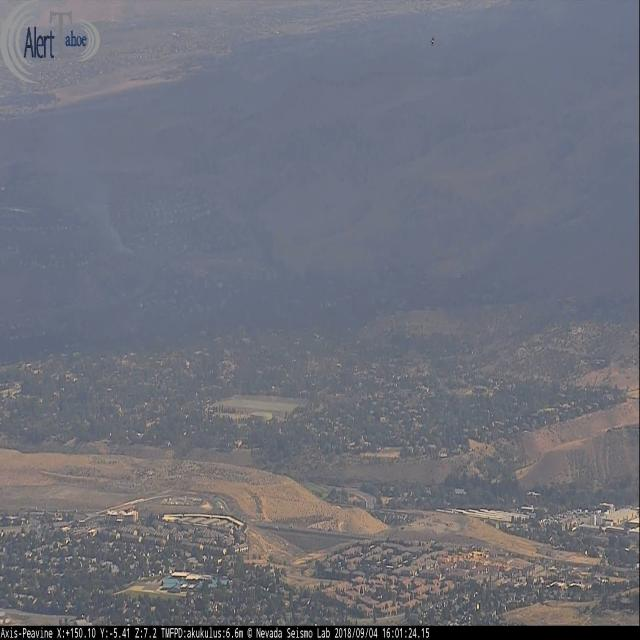smoke: (103, 211, 134, 254)
